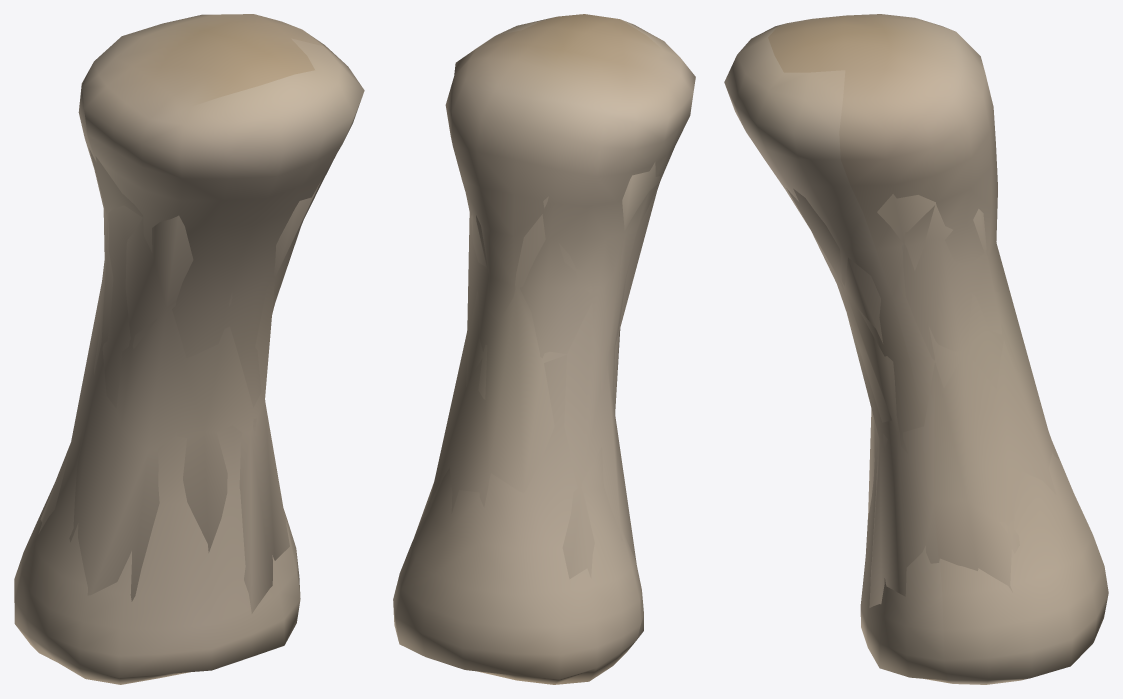
File: vertebrae caudales 14.fbx
3 views of the same model, side by side, from view 1: azimuth 30°, elevation 25°; view 2: azimuth 150°, elevation 25°; view 3: azimuth 270°, elevation 25° (orthographic). The views are drawn at different scales.
Parts seen in each view (by area): view 1: vertebrae caudales 14, vertebrae caudales 14 low; view 2: vertebrae caudales 14, vertebrae caudales 14 low; view 3: vertebrae caudales 14, vertebrae caudales 14 low.
Part boxes in pixels (x1,y1,x2,y2): vertebrae caudales 14: (14, 14, 364, 684); vertebrae caudales 14 low: (38, 148, 320, 613); vertebrae caudales 14: (393, 14, 695, 684); vertebrae caudales 14 low: (414, 162, 660, 579); vertebrae caudales 14: (724, 14, 1108, 684); vertebrae caudales 14 low: (786, 188, 1059, 607).
Bounding box in the file's own units: 1.02 × 2.52 × 1.43.
1 material, 1 textured.
